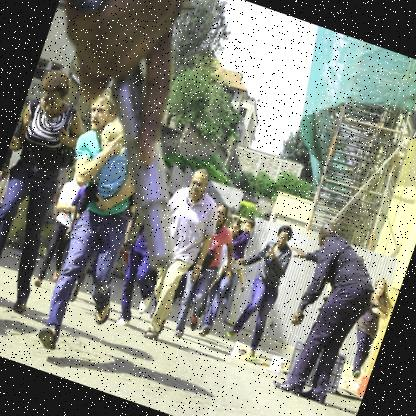rifle: (0, 0, 259, 276)
